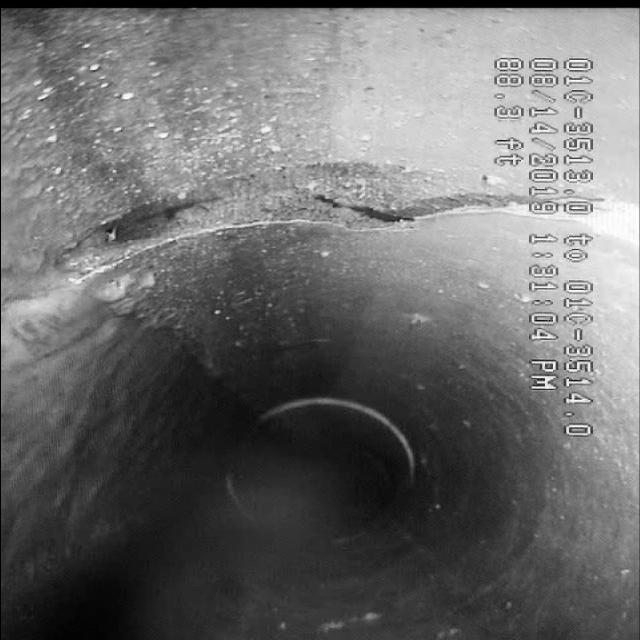Fracture: (62, 152, 454, 290)
